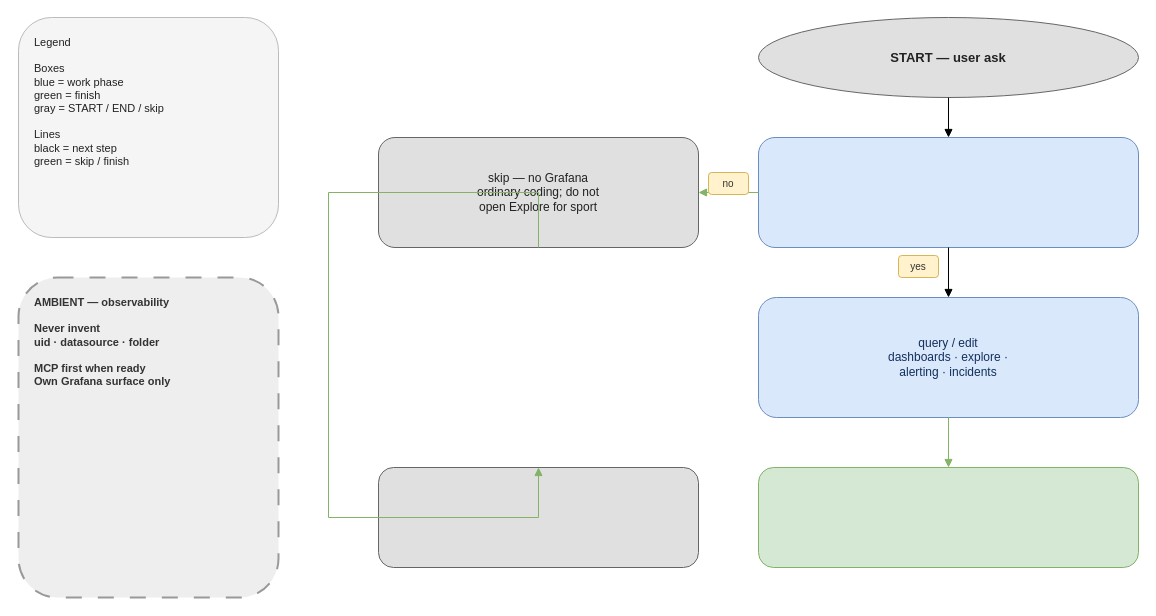
Some shapes in this 1156 by 616 pixel diagram are drawn without their labels. Here are the shapes that lost their labels. From the top down, the centre of each, then its label:
At [948,192]: "gate · Grafana? dashboard / explore / alert / incident ask".
At [538,517]: "END — stay out".
At [948,517]: "END — uid / link + what changed".
